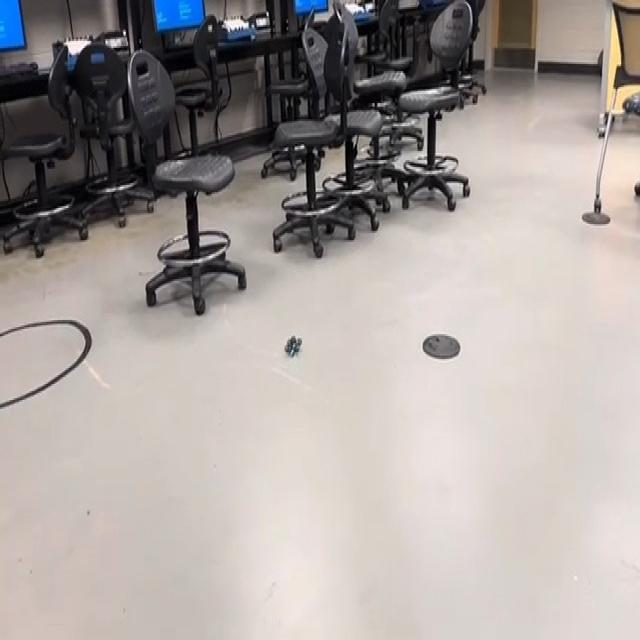drone: (275, 324, 311, 367)
